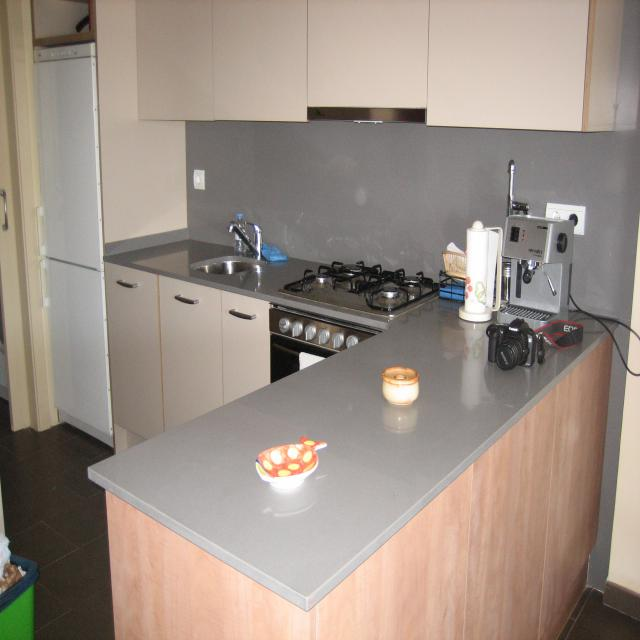2036: (89, 239, 617, 609)
ashtray: (381, 367, 418, 407)
camera crop: (487, 320, 537, 370)
coffe marker: (496, 214, 574, 334)
cupboard crop: (105, 319, 618, 639), (138, 1, 624, 132), (103, 262, 271, 450)
door bars: (0, 3, 30, 432)
faucet handle: (229, 223, 261, 253)
floor -X: (0, 398, 116, 639)
fridge crop: (31, 42, 111, 449)
oven range: (271, 305, 383, 384)
pot hanger: (255, 435, 325, 490)
skin: (190, 255, 258, 280)
socket: (193, 170, 205, 190)
stove burner: (280, 261, 440, 321)
trash compactor: (0, 551, 39, 639)
wall clock: (186, 0, 640, 621), (2, 1, 58, 431), (96, 0, 188, 260)
